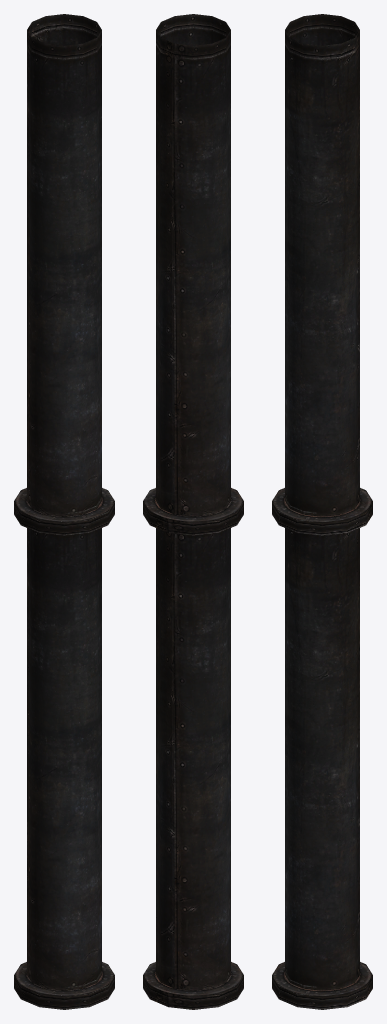
The model's file is tesla_props_pipes_02_med.dae.
The picture shows the model from 3 angles, left to right: view 1: azimuth 90°, elevation 25°; view 2: azimuth 150°, elevation 25°; view 3: azimuth 270°, elevation 25°; orthographic projection.
Parts seen in each view (by area): view 1: polySurface392; view 2: polySurface392; view 3: polySurface392.
Boxes of the visible parts, x1,y1,x2,y2 form: polySurface392: (14,14,114,1009); polySurface392: (143,14,243,1009); polySurface392: (272,14,372,1009).
Bounding box in the file's own units: 0.6718 × 7.05 × 0.6718.
